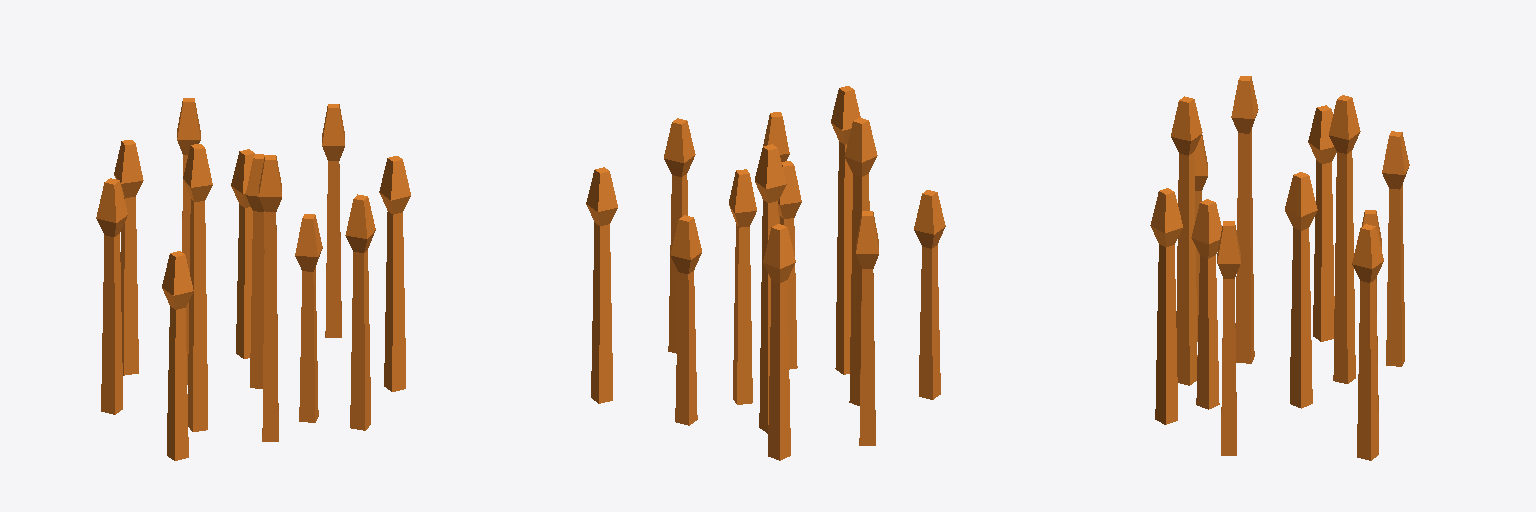
The model's file is crops_wheatStageB.obj.
3 views of the same model, side by side, from view 1: azimuth 30°, elevation 25°; view 2: azimuth 150°, elevation 25°; view 3: azimuth 270°, elevation 25° (orthographic).
Visible parts, largest first — view 1: crops_wheatStageB; view 2: crops_wheatStageB; view 3: crops_wheatStageB.
Part boxes in pixels (left/top/right/bottom): crops_wheatStageB: left=96, top=98, right=410, bottom=460; crops_wheatStageB: left=586, top=86, right=945, bottom=460; crops_wheatStageB: left=1150, top=76, right=1409, bottom=460.
Size of the model in its own units: 0.5396 by 0.5349 by 0.4467.